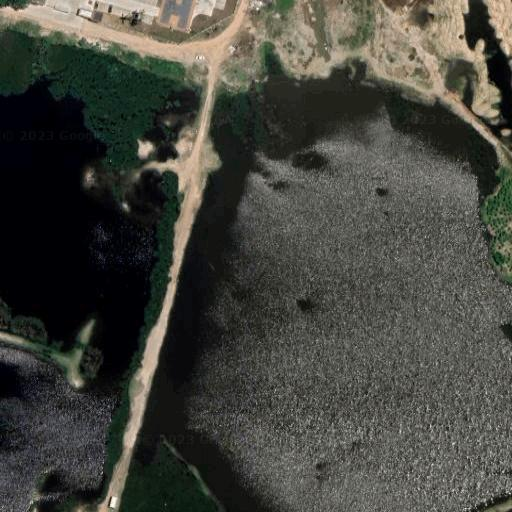building: (91, 9, 103, 22), (78, 8, 93, 18)
